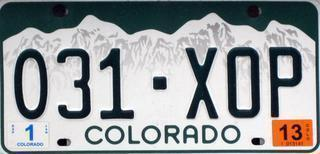placa de veiculo: (3, 1, 313, 151)
